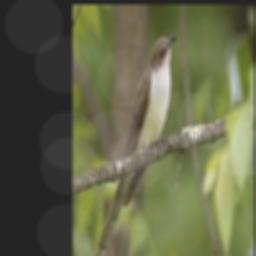Cuckoo: (87, 34, 178, 256)
